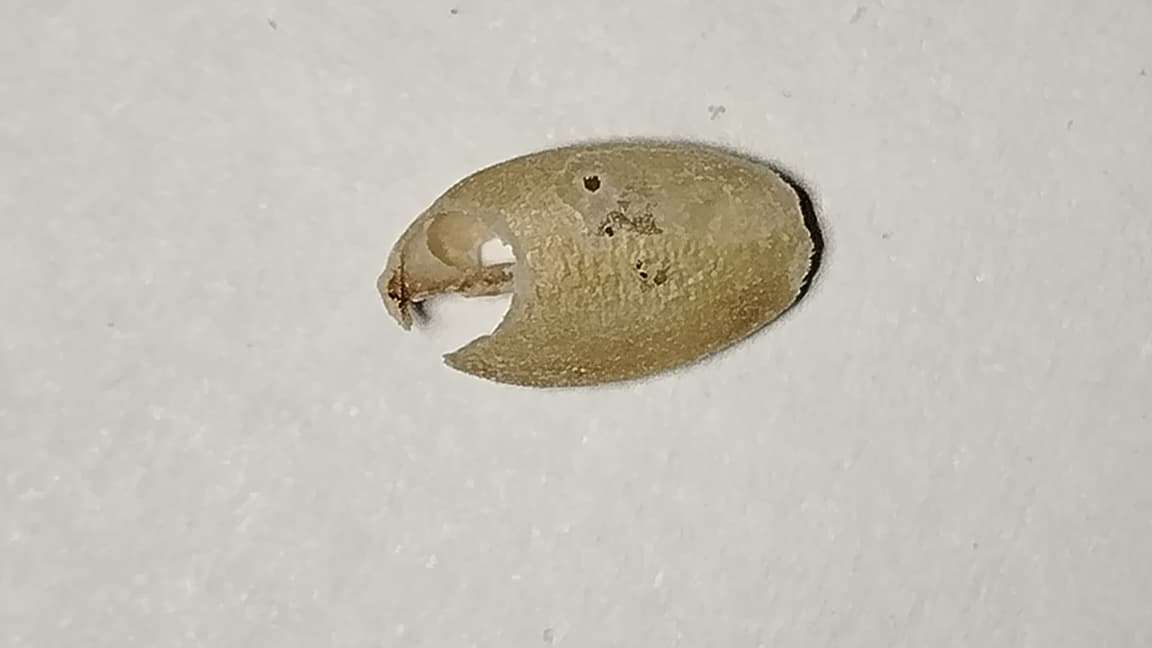damage: (378, 141, 822, 383)
insectdamage: (376, 202, 533, 370), (558, 154, 778, 247), (633, 256, 673, 286)
